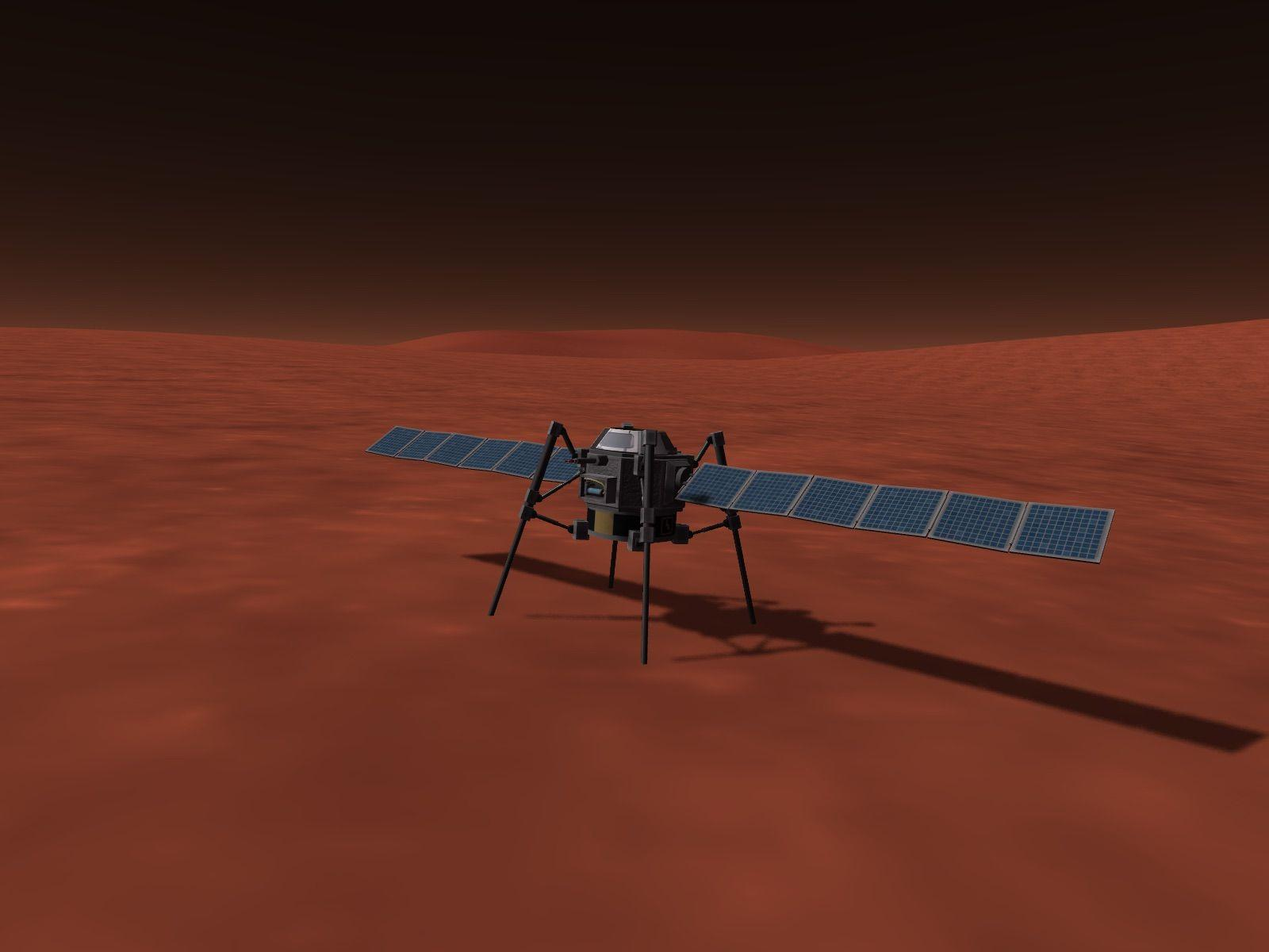antenna: (563, 453, 610, 467)
body: (575, 420, 697, 548)
solar: (674, 460, 1118, 566), (363, 424, 588, 485)
